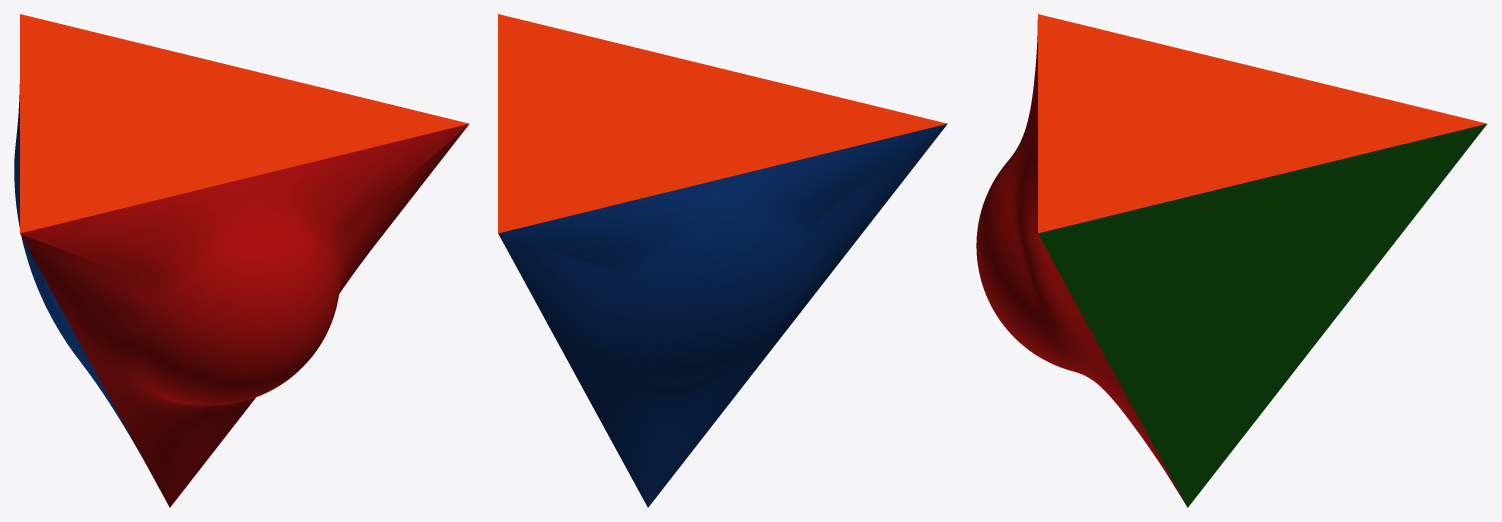
Rendered from 0_3_1_0_tetrahedron.obj.
3 renders of one model, left to right at view 1: azimuth 30°, elevation 25°; view 2: azimuth 150°, elevation 25°; view 3: azimuth 270°, elevation 25°, orthographic.
Visible parts, largest first — view 1: Level_3_-_level_3_front_Level_3_-_level_3_front.001, Level_0_-_level_0_top, Level_1_-_level_1_left_Level_1_-_level_1_left.002; view 2: Level_1_-_level_1_left_Level_1_-_level_1_left.002, Level_0_-_level_0_top; view 3: Level_0_-_level_0_right, Level_0_-_level_0_top, Level_3_-_level_3_front_Level_3_-_level_3_front.001.
Boxes of the visible parts, x1,y1,x2,y2 form: Level_3_-_level_3_front_Level_3_-_level_3_front.001: [20, 124, 468, 507]; Level_0_-_level_0_top: [20, 14, 468, 233]; Level_1_-_level_1_left_Level_1_-_level_1_left.002: [14, 83, 141, 456]; Level_1_-_level_1_left_Level_1_-_level_1_left.002: [498, 124, 947, 507]; Level_0_-_level_0_top: [498, 14, 946, 233]; Level_0_-_level_0_right: [1038, 124, 1486, 507]; Level_0_-_level_0_top: [1038, 14, 1486, 233]; Level_3_-_level_3_front_Level_3_-_level_3_front.001: [976, 19, 1186, 505].
Bounding box in the file's own units: 0.1 × 0.0816 × 0.0984.
